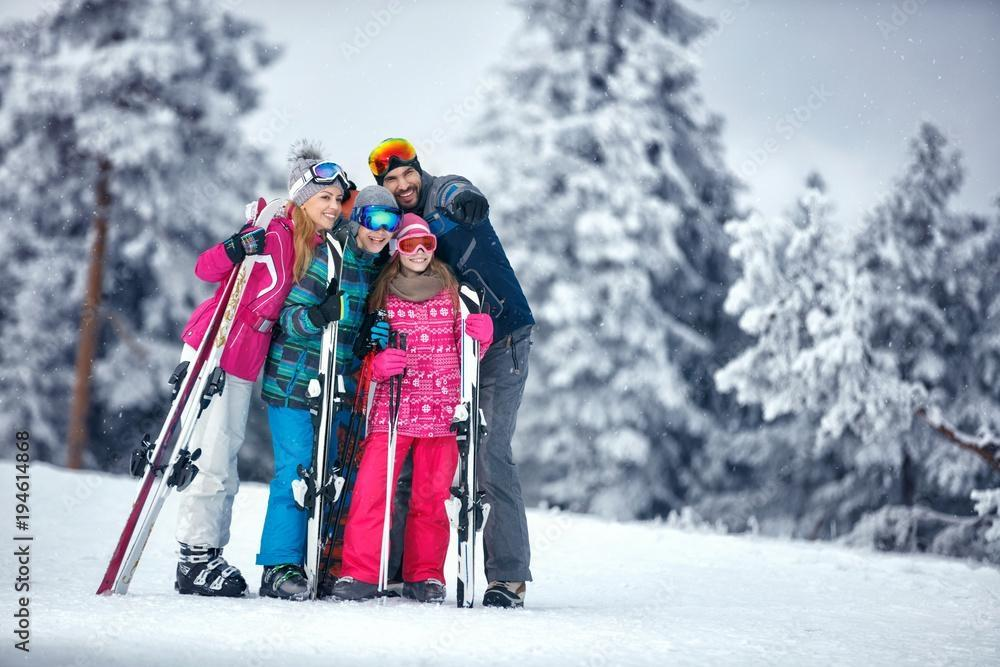Skis: (94, 195, 270, 601), (368, 340, 496, 618), (306, 170, 346, 611)
